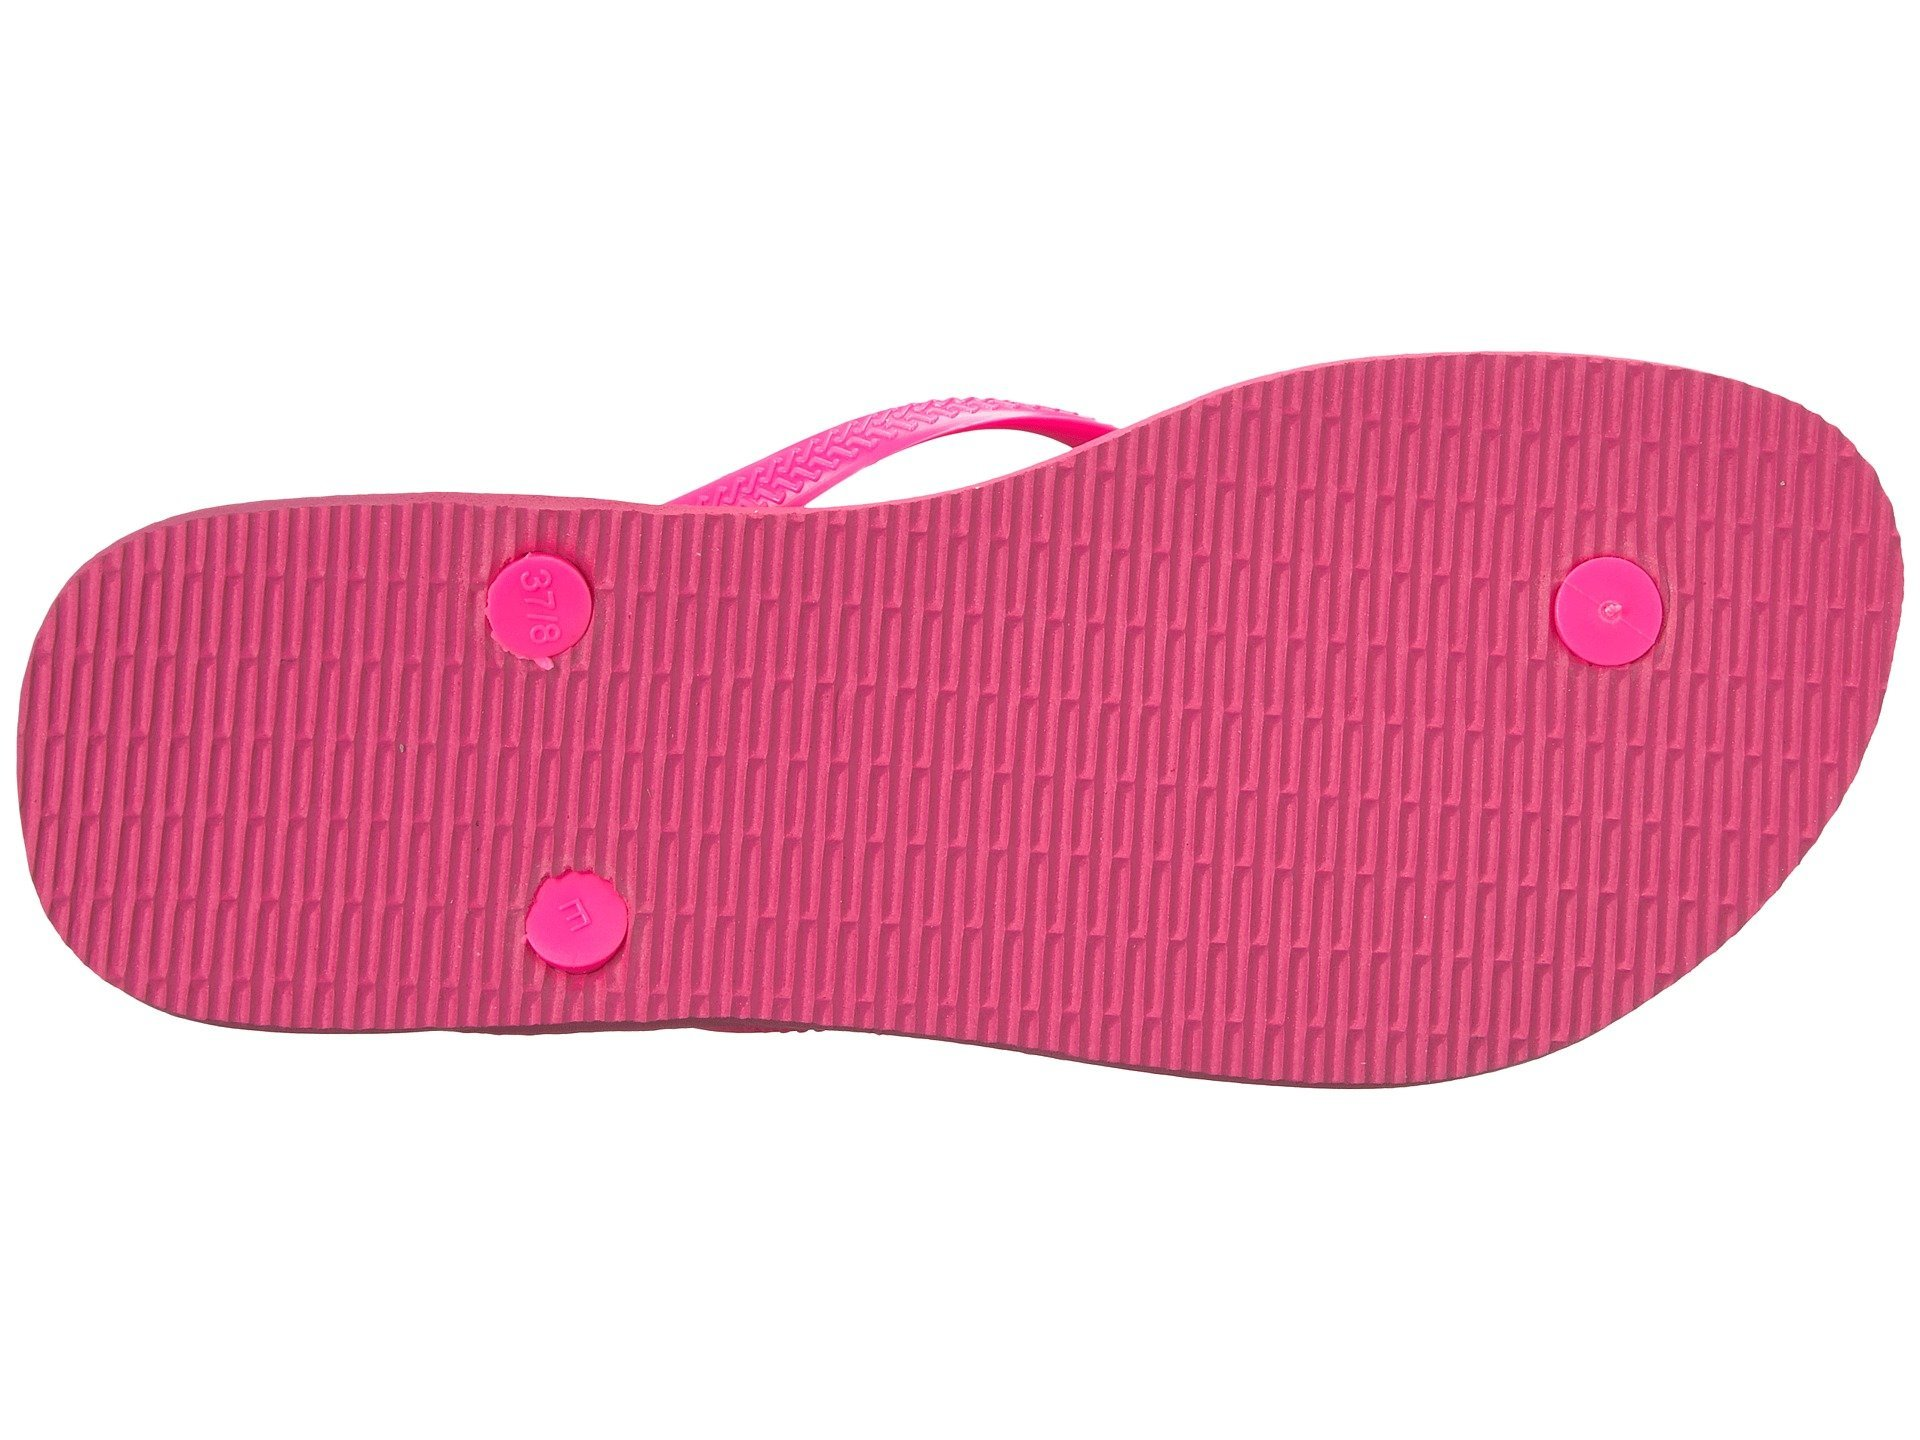circle: (141, 542, 980, 1007), (1194, 401, 1663, 1006)
quad: (141, 542, 980, 1007), (1194, 401, 1663, 1006), (983, 526, 1179, 1023), (1695, 436, 1826, 791)
text: (141, 542, 980, 1007), (1194, 401, 1663, 1006)
